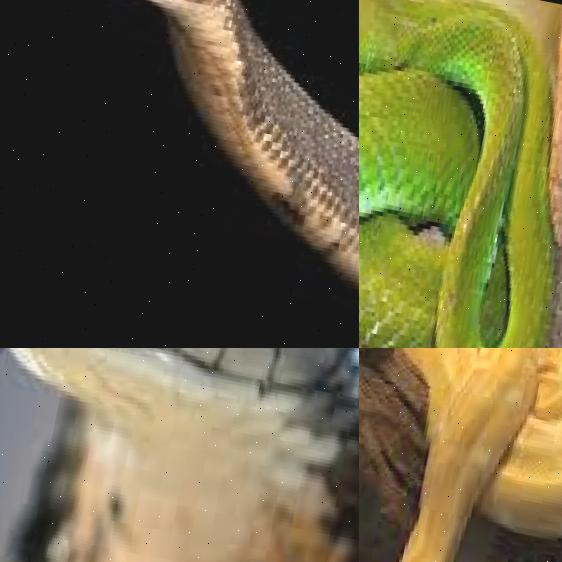snake: (0, 0, 359, 348), (0, 348, 359, 562), (359, 0, 562, 348), (359, 348, 562, 562)
